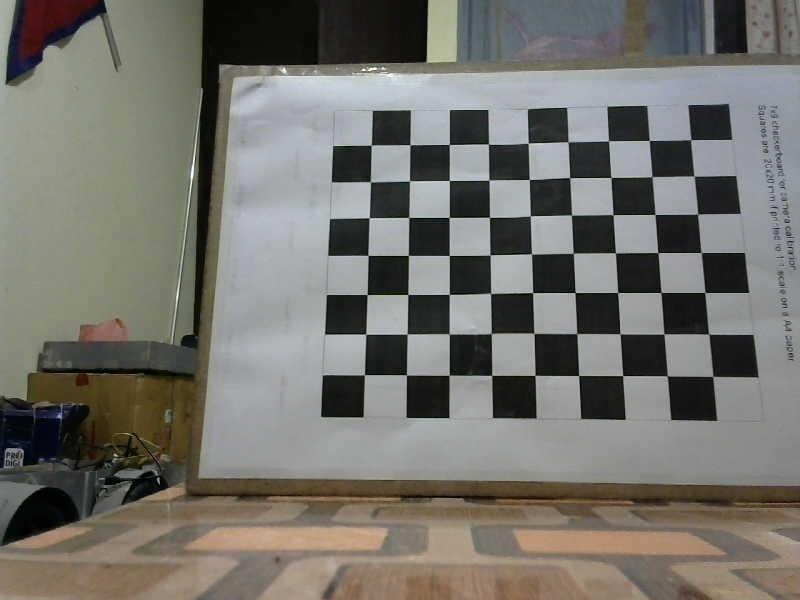block: (220, 60, 798, 509)
